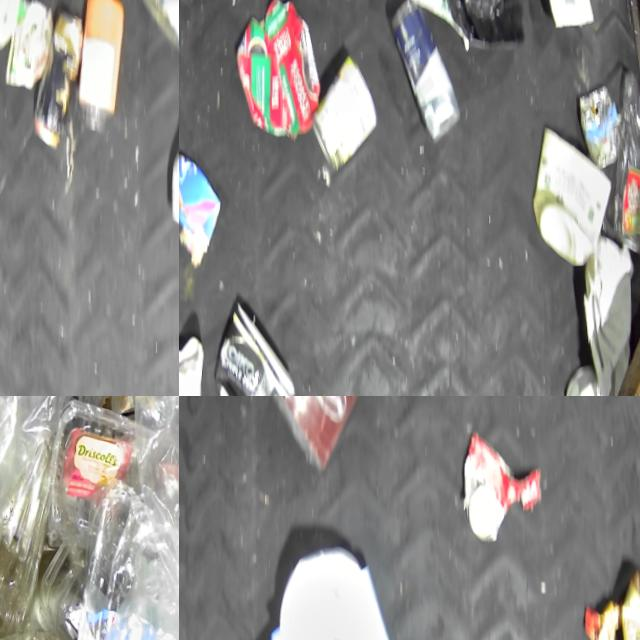can: (232, 0, 321, 136), (309, 49, 378, 173), (29, 4, 86, 151), (458, 423, 514, 541), (574, 78, 617, 163), (615, 561, 640, 640), (165, 117, 179, 239)
milk_jug: (263, 540, 397, 640), (0, 0, 41, 52)
plastic_bottle: (606, 61, 640, 251)
